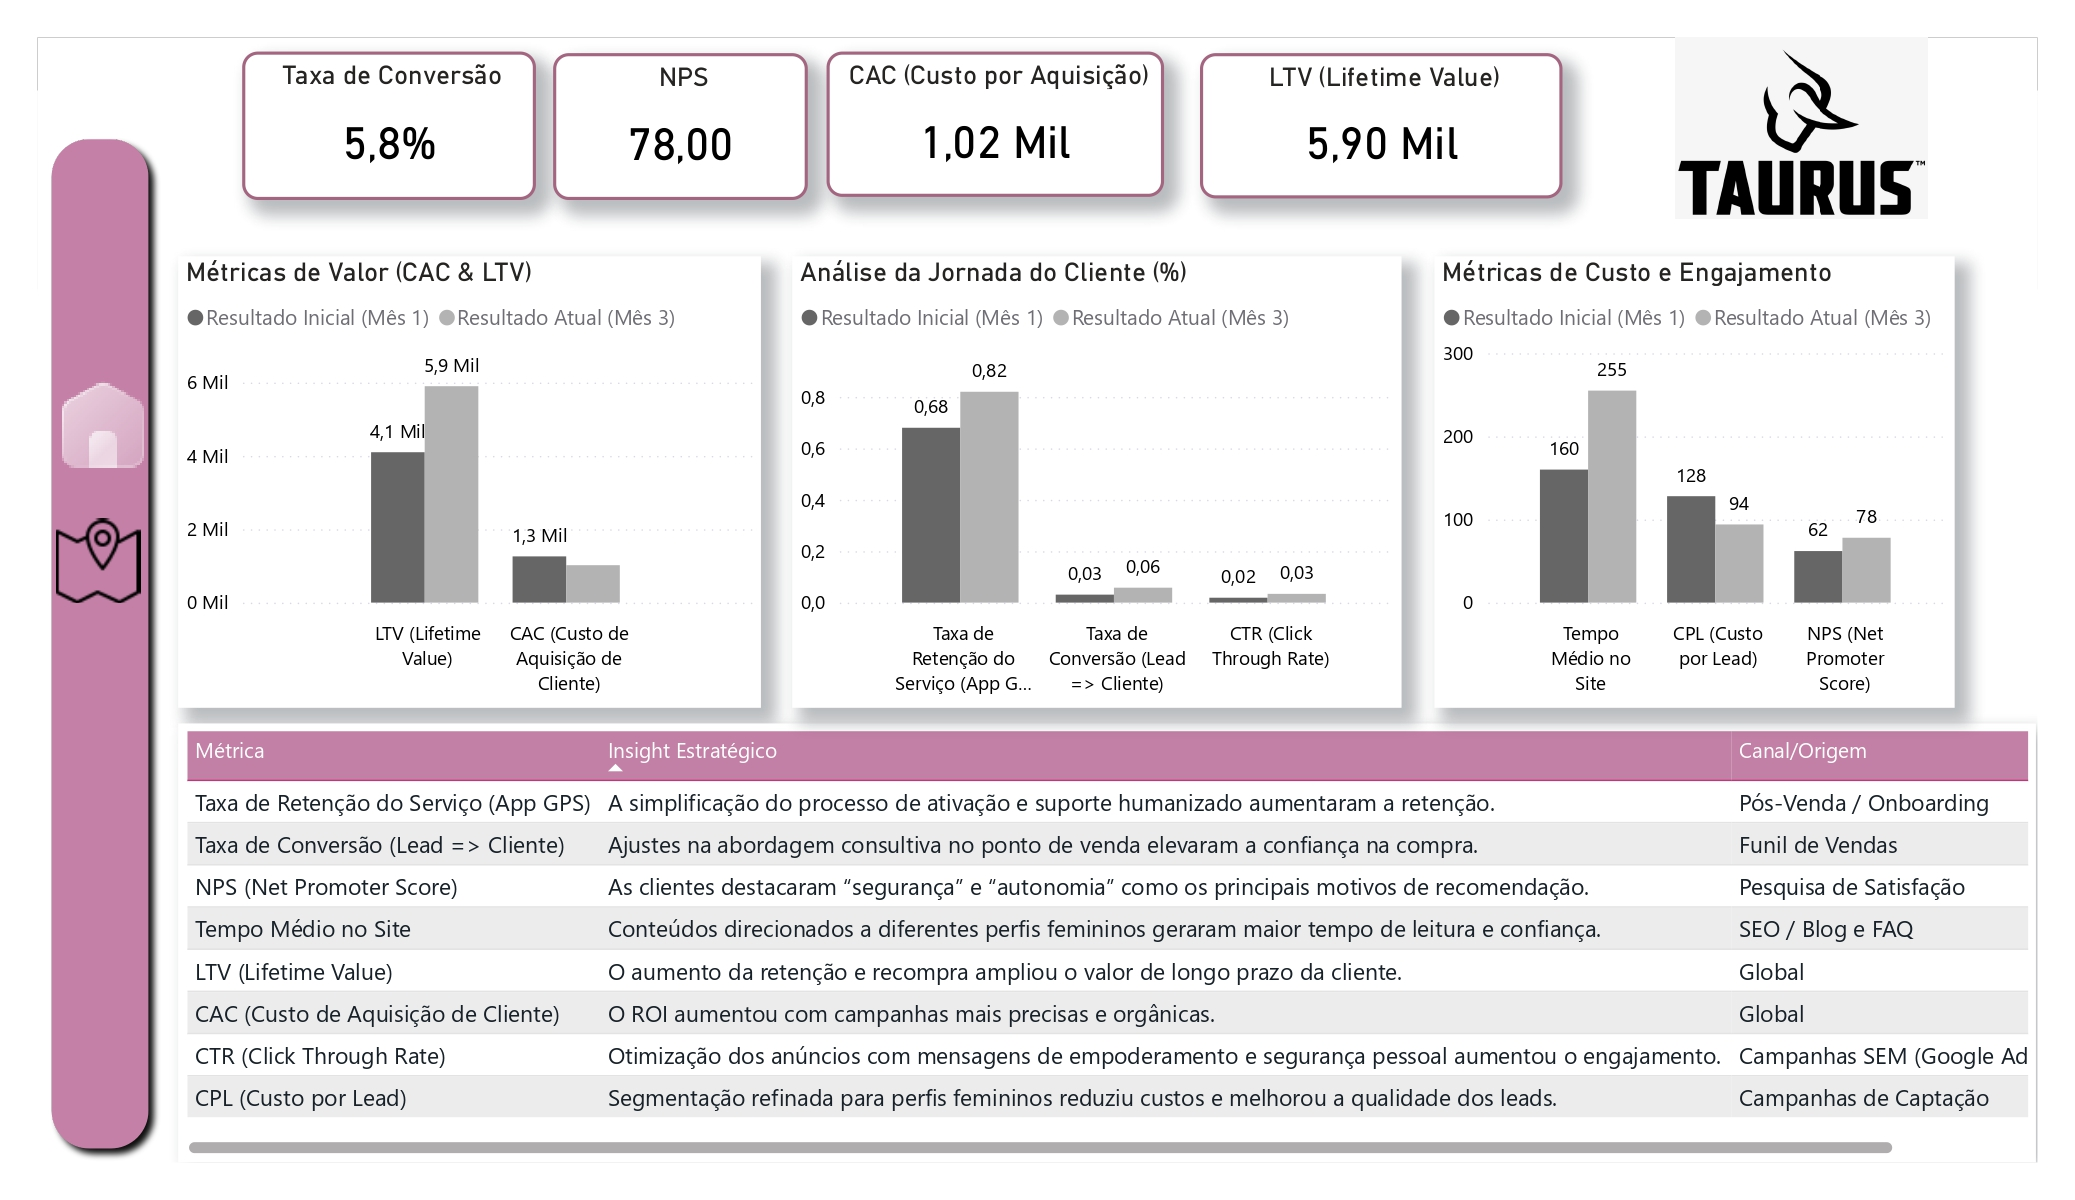

What the dashboard file says about the page in this screenshot:
{"tool":"powerbi","page":{"name":"Tabela de Resultados","canvas":[1280,720],"ordinal":2},"visuals":[{"type":"card","title":"Taxa de Conversão","fields":{"Values":["Planilha1.KPI_Taxa_Conversao"]},"box":[131.4,8.6,187.1,95.7],"z":0},{"type":"card","title":"NPS","fields":{"Values":["Sum(Planilha1.Resultado Atual (Mês 3))"]},"box":[330,10,162.9,94.3],"z":1000},{"type":"card","title":"CAC (Custo por Aquisição)","fields":{"Values":["Sum(Planilha1.Resultado Atual (Mês 3))"]},"box":[504.9,8.8,216.6,93.7],"z":2000},{"type":"card","title":"LTV (Lifetime Value)","fields":{"Values":["Sum(Planilha1.Resultado Atual (Mês 3))"]},"box":[744.3,10,231.4,92.9],"z":3000},{"type":"clusteredColumnChart","title":"Métricas de Valor (CAC & LTV)","fields":{"Category":["Planilha1.Métrica"],"Y":["Sum(Planilha1.Resultado Inicial (Mês 1))","Sum(Planilha1.Resultado Atual (Mês 3))"]},"box":[90,140,372.9,288.6],"z":4000},{"type":"tableEx","fields":{"Values":["Planilha1.Métrica","Planilha1.Insight Estratégico","Planilha1.Canal/Origem"]},"box":[90,438.6,1188.6,281.4],"z":5000},{"type":"clusteredColumnChart","title":"Análise da Jornada do Cliente (%)","fields":{"Category":["Planilha1.Métrica"],"Y":["Sum(Planilha1.Resultado Inicial (Mês 1))","Sum(Planilha1.Resultado Atual (Mês 3))"]},"box":[482.9,140,390,288.6],"z":6000},{"type":"clusteredColumnChart","title":"Métricas de Custo e Engajamento","fields":{"Category":["Planilha1.Métrica"],"Y":["Sum(Planilha1.Resultado Inicial (Mês 1))","Sum(Planilha1.Resultado Atual (Mês 3))"]},"box":[894.3,140,332.9,288.6],"z":7000},{"type":"shape","box":[0,55.7,80,664.3],"z":8000},{"type":"image","box":[1.5,213.7,80.5,70.2],"z":9000},{"type":"image","box":[11.7,297.1,54.1,74.6],"z":10000},{"type":"image","box":[979,0,300,115.6],"z":11000}]}

Visuals, with their boxes on the page's 1280x720 design canvas (x1, y1, x2, y2). These are canvas units, not pixel positions in the 2075x1200 screenshot, which may show the page scaled, cropped or inside an application window:
"Taxa de Conversão" card: box(131, 9, 318, 104)
"NPS" card: box(330, 10, 493, 104)
"CAC (Custo por Aquisição)" card: box(505, 9, 722, 102)
"LTV (Lifetime Value)" card: box(744, 10, 976, 103)
"Métricas de Valor (CAC & LTV)" clusteredColumnChart: box(90, 140, 463, 429)
tableEx - Planilha1.Métrica x Planilha1.Insight Estratégico: box(90, 439, 1279, 720)
"Análise da Jornada do Cliente (%)" clusteredColumnChart: box(483, 140, 873, 429)
"Métricas de Custo e Engajamento" clusteredColumnChart: box(894, 140, 1227, 429)
shape: box(0, 56, 80, 720)
image: box(2, 214, 82, 284)
image: box(12, 297, 66, 372)
image: box(979, 0, 1279, 116)
